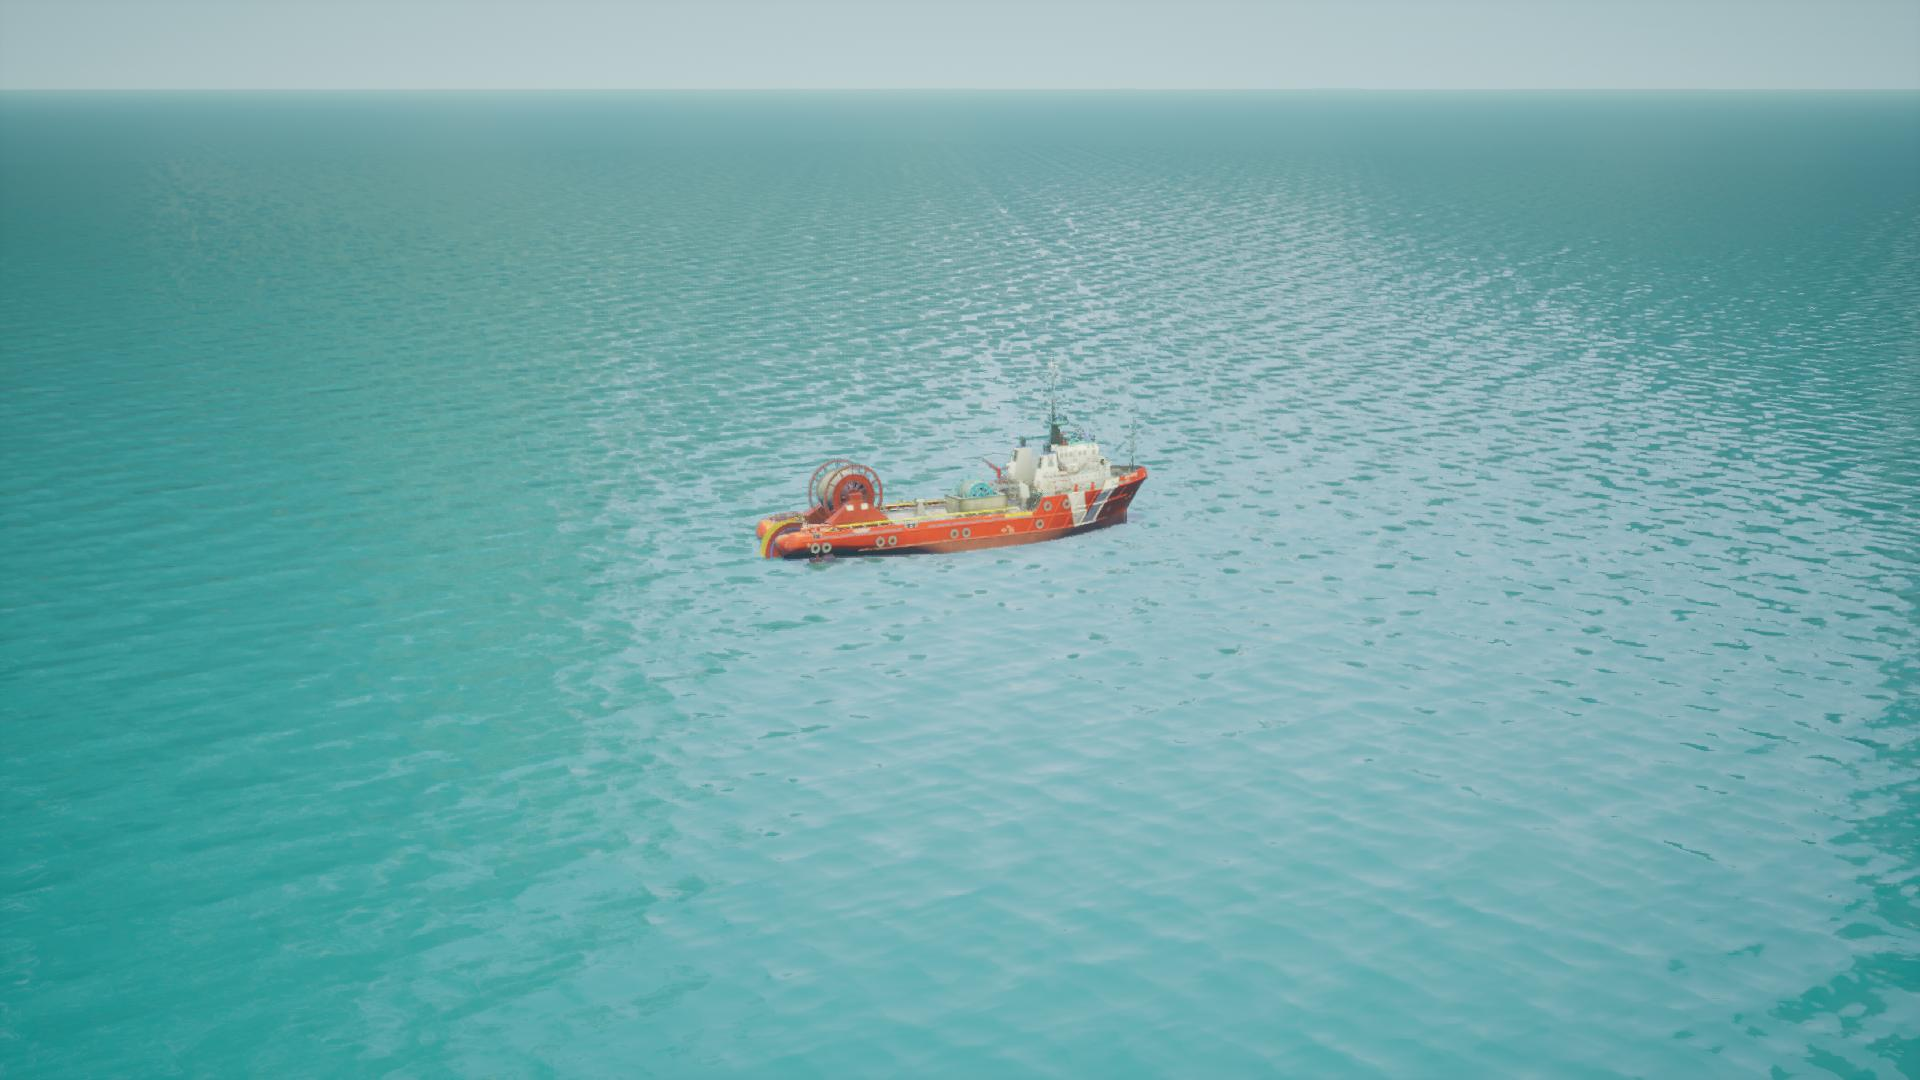Tug Boat: (757, 400, 1151, 568)
